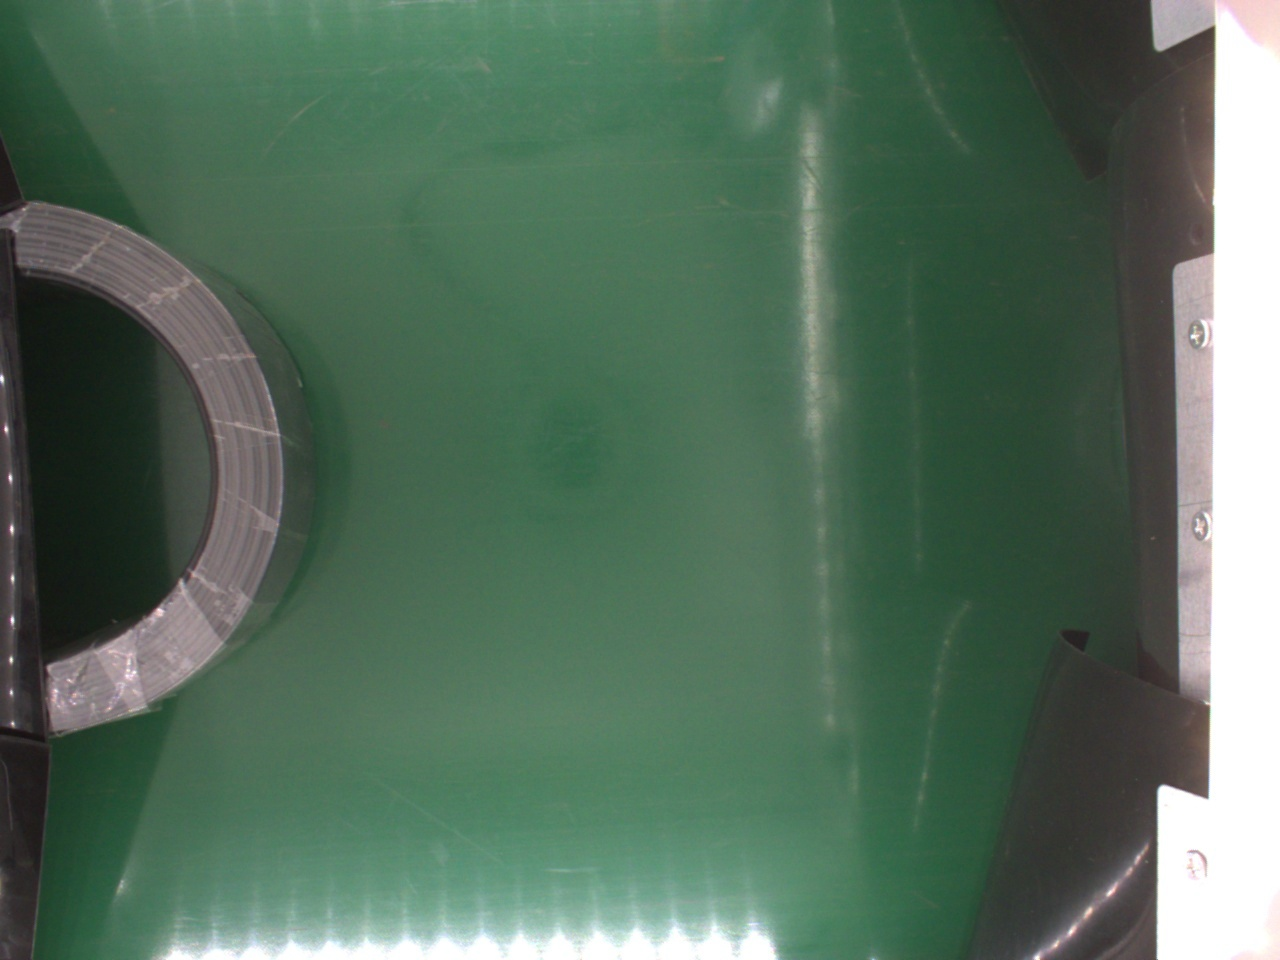black: (10, 200, 321, 732)
